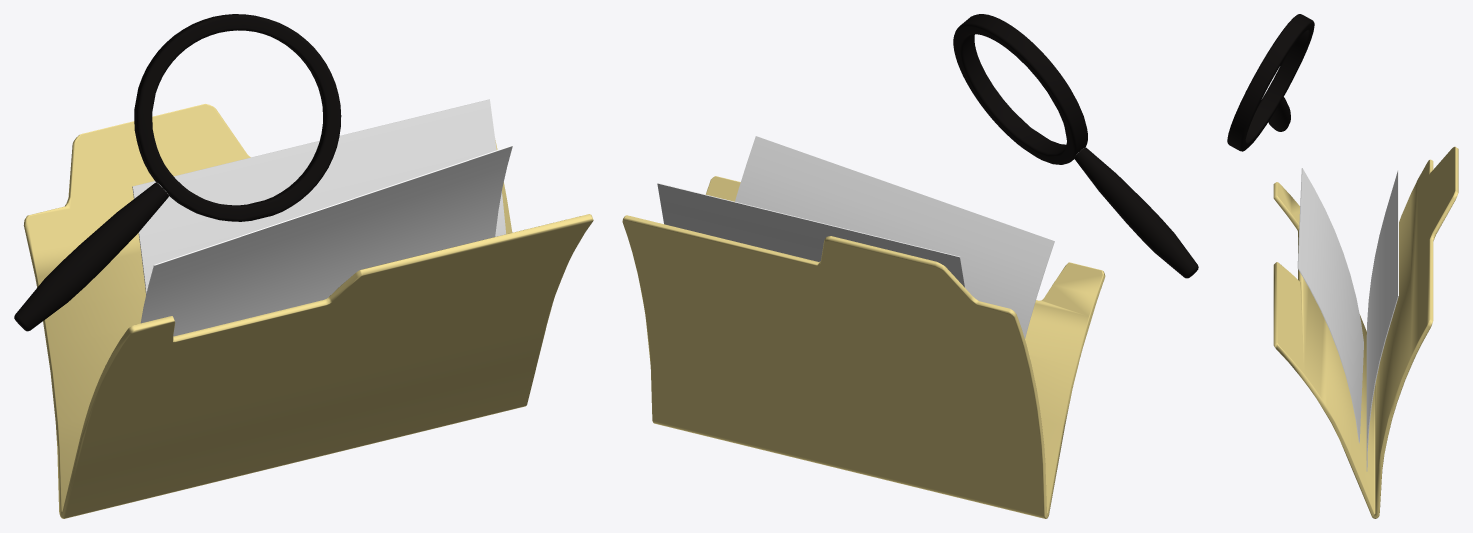
3 renders of one model, left to right at view 1: azimuth 30°, elevation 25°; view 2: azimuth 150°, elevation 25°; view 3: azimuth 270°, elevation 25°, orthographic. The views are drawn at different scales.
Visible parts, largest first — view 1: Folder, Magnifying_Glass (1); view 2: Folder, Magnifying_Glass (1); view 3: Folder, Magnifying_Glass (1).
Boxes of the visible parts, bbox=[...] form: Folder: bbox=[23, 99, 593, 518]; Magnifying_Glass (1): bbox=[14, 14, 341, 331]; Folder: bbox=[622, 136, 1105, 518]; Magnifying_Glass (1): bbox=[953, 14, 1198, 278]; Folder: bbox=[1273, 146, 1458, 518]; Magnifying_Glass (1): bbox=[1227, 14, 1314, 151].
Size of the model in its own units: 14.19 by 12.23 by 6.85.
Materials: 1 (1 with a texture image).
